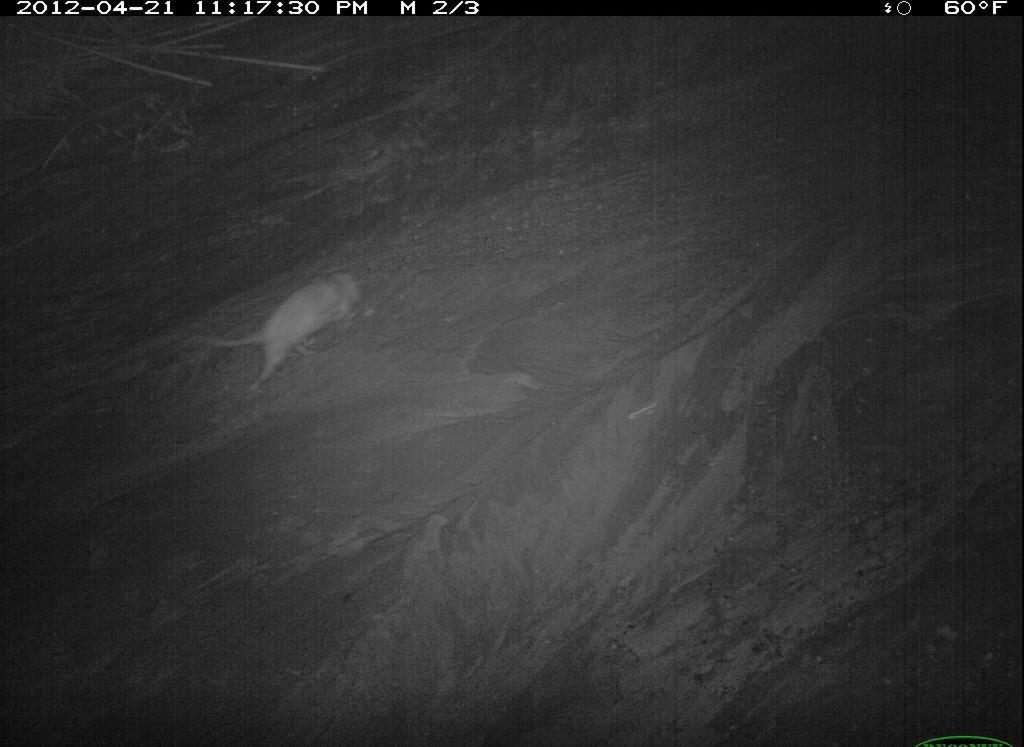opossum: (402, 528, 745, 747)
